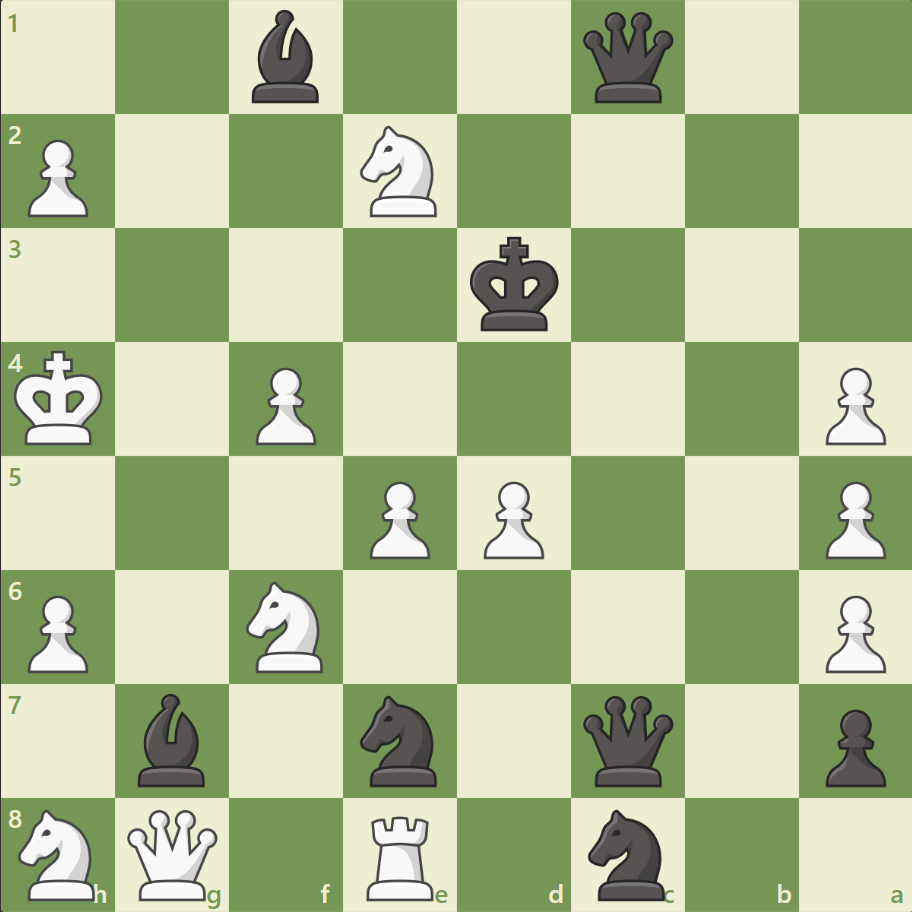K: (11, 344, 111, 452)
N: (351, 121, 449, 223), (11, 802, 108, 904), (238, 575, 335, 677)
P: (20, 586, 95, 677), (474, 473, 549, 564), (247, 359, 322, 450), (20, 132, 95, 223), (815, 586, 889, 677), (815, 473, 889, 564), (361, 473, 435, 564), (815, 359, 889, 450)
Q: (124, 804, 223, 903)
R: (360, 806, 442, 904)
b: (131, 687, 215, 790), (244, 6, 328, 109)
k: (465, 231, 565, 339)
n: (351, 688, 449, 791), (579, 802, 676, 904)
p: (815, 700, 889, 791)
q: (578, 690, 677, 789), (578, 9, 677, 108)
